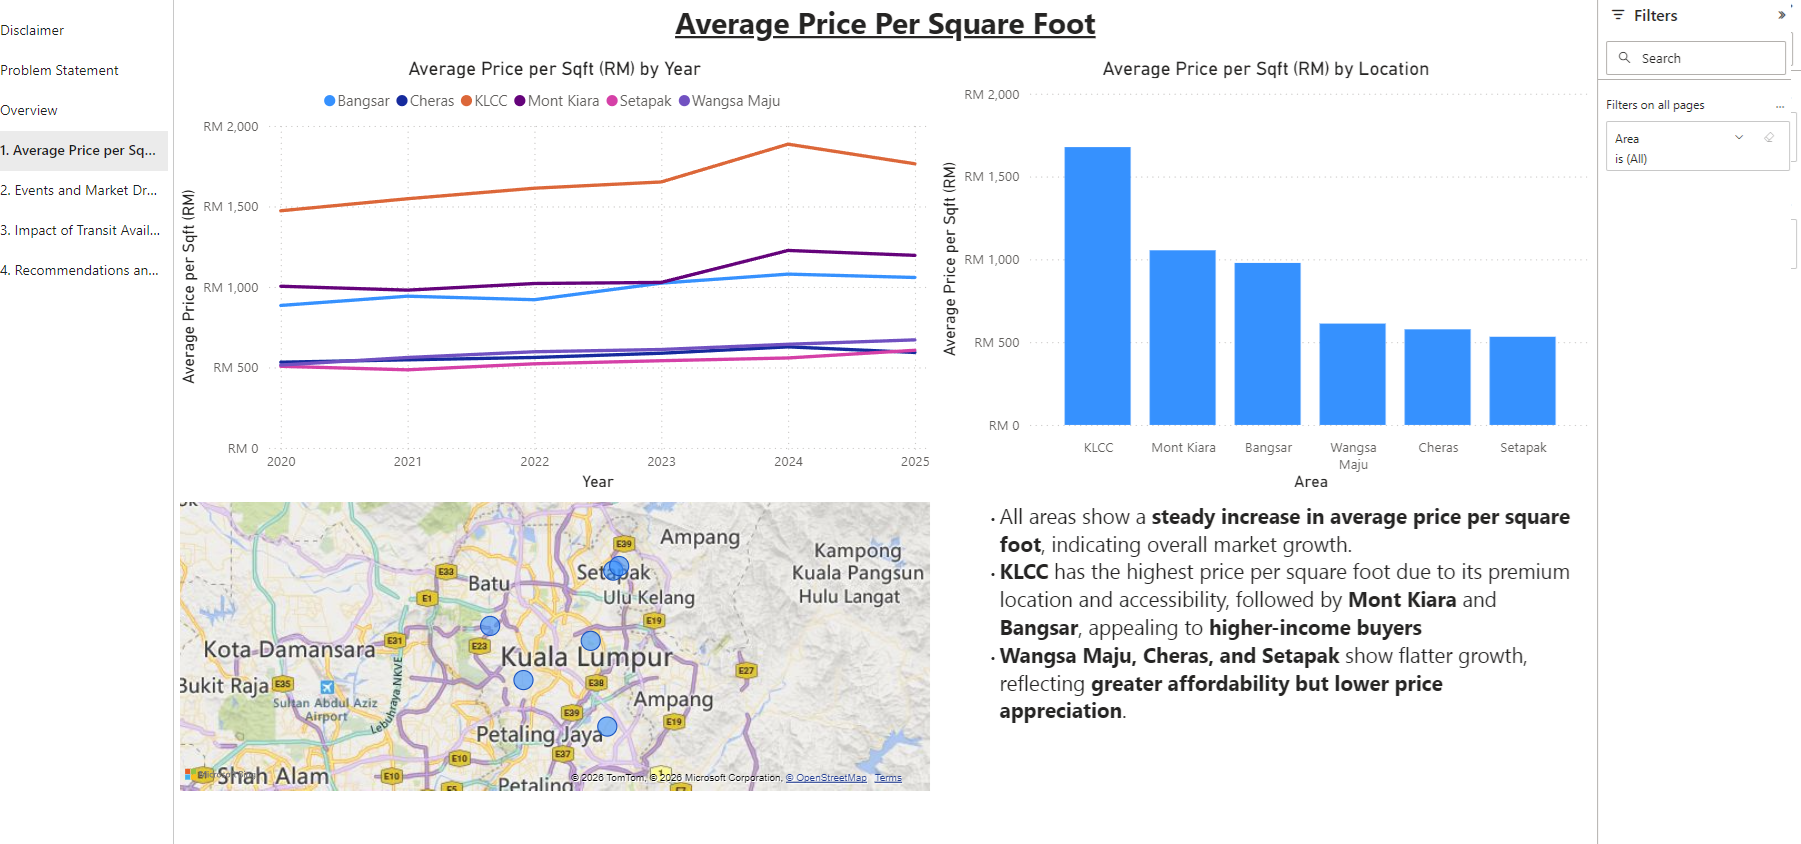

What the dashboard file says about the page in this screenshot:
{"tool":"powerbi","page":{"name":"1. Average Price per Sqft Trend ","canvas":[1280,720],"ordinal":3},"visuals":[{"type":"lineChart","title":"Average Price per Sqft (RM) by Year","fields":{"Category":["kl_housing_prices_2020_2025_synthetic.transaction_year"],"Y":["kl_housing_prices_2020_2025_synthetic.Average Price per Sqft (RM)"],"Series":["kl_housing_prices_2020_2025_synthetic.location"]},"box":[0,54.8,684.5,395],"z":0},{"type":"columnChart","title":"Average Price per Sqft (RM) by Location","fields":{"Category":["kl_housing_prices_2020_2025_synthetic.location"],"Y":["kl_housing_prices_2020_2025_synthetic.Average Price per Sqft (RM)"]},"box":[684.5,54.8,595.5,395],"z":1000},{"type":"map","fields":{"Category":["kl_housing_prices_2020_2025_synthetic.location"]},"box":[0,449.6,684.7,270.4],"z":2000},{"type":"textbox","box":[719.7,449.4,543.7,241.3],"z":3000},{"type":"textbox","box":[135.4,0,1008.1,54.8],"z":4000}]}

Visuals, with their boxes on the page's 1280x720 design canvas (x1, y1, x2, y2). These are canvas units, not pixel positions in the 1801x844 screenshot, which may show the page scaled, cropped or inside an application window:
"Average Price per Sqft (RM) by Year" lineChart: bbox=[0, 55, 684, 450]
"Average Price per Sqft (RM) by Location" columnChart: bbox=[684, 55, 1280, 450]
map - kl_housing_prices_2020_2025_synthetic.location: bbox=[0, 450, 685, 720]
textbox: bbox=[720, 449, 1263, 691]
textbox: bbox=[135, 0, 1144, 55]
